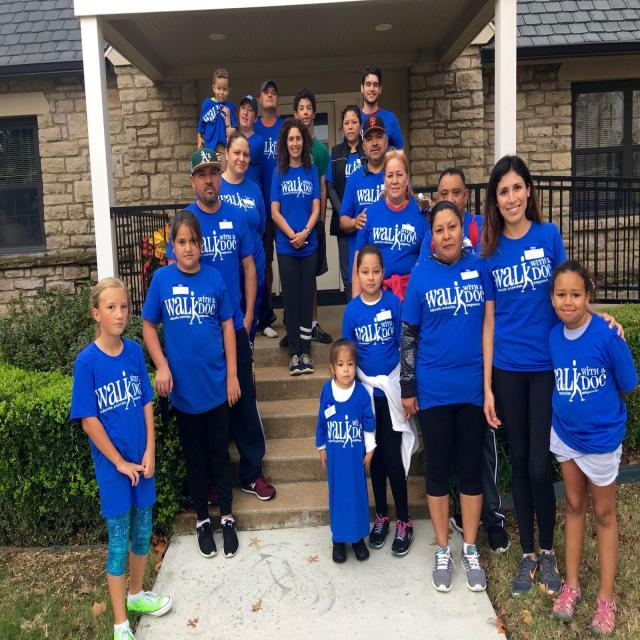body: (473, 152, 632, 603), (164, 146, 278, 501), (67, 274, 176, 640), (542, 256, 640, 640), (139, 207, 244, 562), (398, 200, 489, 593), (340, 241, 414, 563), (312, 336, 380, 566), (278, 86, 334, 348), (220, 93, 278, 339), (350, 145, 436, 302), (270, 116, 321, 377), (215, 130, 269, 354), (338, 115, 391, 302), (324, 103, 367, 304), (254, 78, 286, 334), (416, 165, 488, 267), (342, 64, 406, 157), (196, 67, 238, 173)
